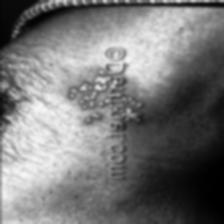Toxin: (64, 69, 143, 124)
